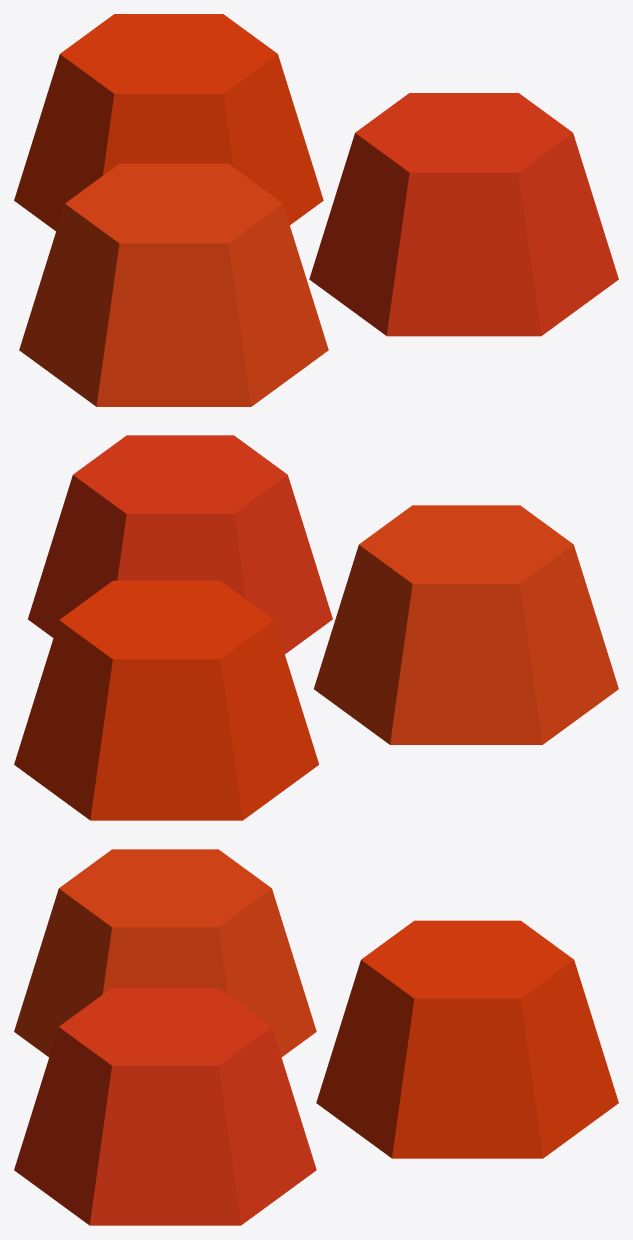
The model's file is STONE14.fbx.
The picture shows the model from 3 angles, top to bottom: view 1: azimuth 30°, elevation 25°; view 2: azimuth 150°, elevation 25°; view 3: azimuth 270°, elevation 25°; orthographic projection. The views are drawn at different scales.
Parts seen in each view (by area): view 1: Circle.001, Circle, Circle.002; view 2: Circle.002, Circle, Circle.001; view 3: Circle.002, Circle.001, Circle.
Part boxes in pixels (bbox=[...]): Circle.001: bbox=[309, 93, 618, 336]; Circle: bbox=[19, 163, 328, 406]; Circle.002: bbox=[14, 14, 323, 231]; Circle.002: bbox=[14, 580, 318, 820]; Circle: bbox=[314, 505, 618, 744]; Circle.001: bbox=[28, 435, 332, 653]; Circle.002: bbox=[316, 920, 618, 1158]; Circle.001: bbox=[14, 987, 316, 1225]; Circle: bbox=[14, 849, 316, 1057].
Size of the model in its own units: 390 by 105 by 400.
